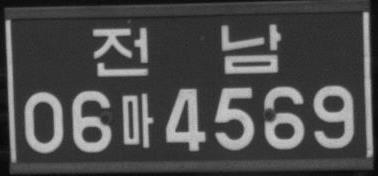0: (23, 90, 63, 154)
4: (165, 87, 206, 151)
5: (212, 86, 255, 151)
6: (263, 85, 305, 150), (71, 89, 112, 152)
9: (312, 84, 355, 150)
마: (120, 93, 155, 148)
전남_D: (93, 23, 282, 77)
